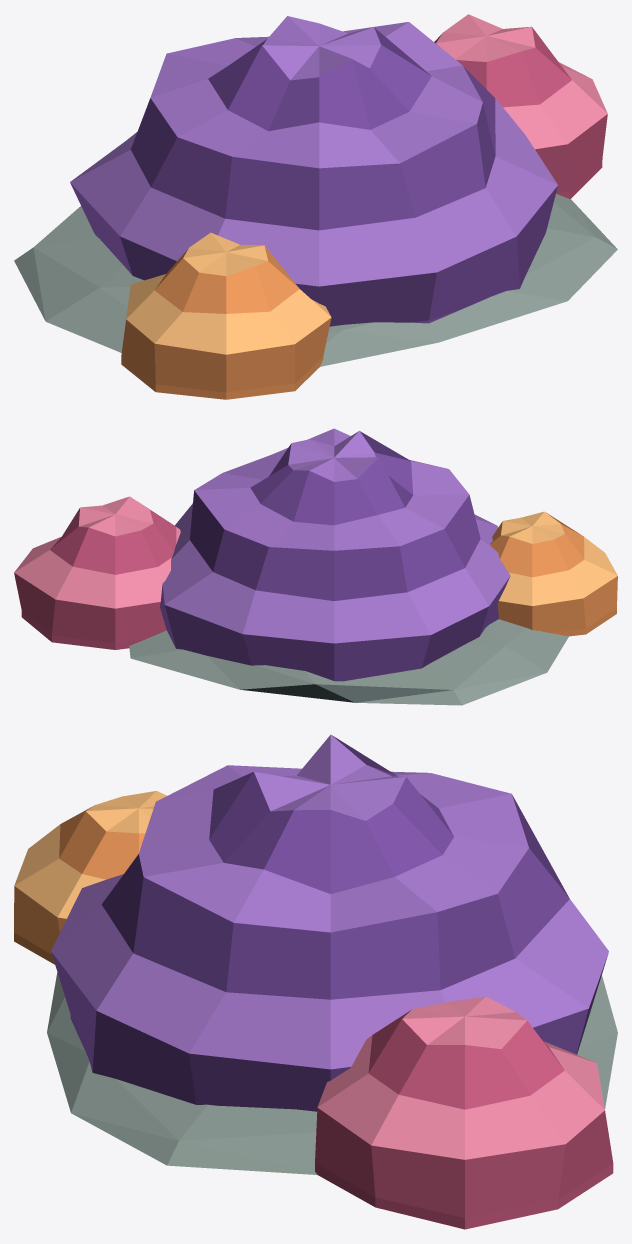
The model's file is coral_b.glb.
3 views of the same model, one above another, from view 1: azimuth 30°, elevation 25°; view 2: azimuth 150°, elevation 25°; view 3: azimuth 270°, elevation 25° (orthographic). The views are drawn at different scales.
Visible parts, largest first — view 1: Body; view 2: Body; view 3: Body.
Part boxes in pixels (x1,y1,x2,y2): Body: [14, 14, 617, 399]; Body: [14, 428, 617, 705]; Body: [14, 734, 617, 1229].
Size of the model in its own units: 2.19 by 0.7627 by 1.57.
